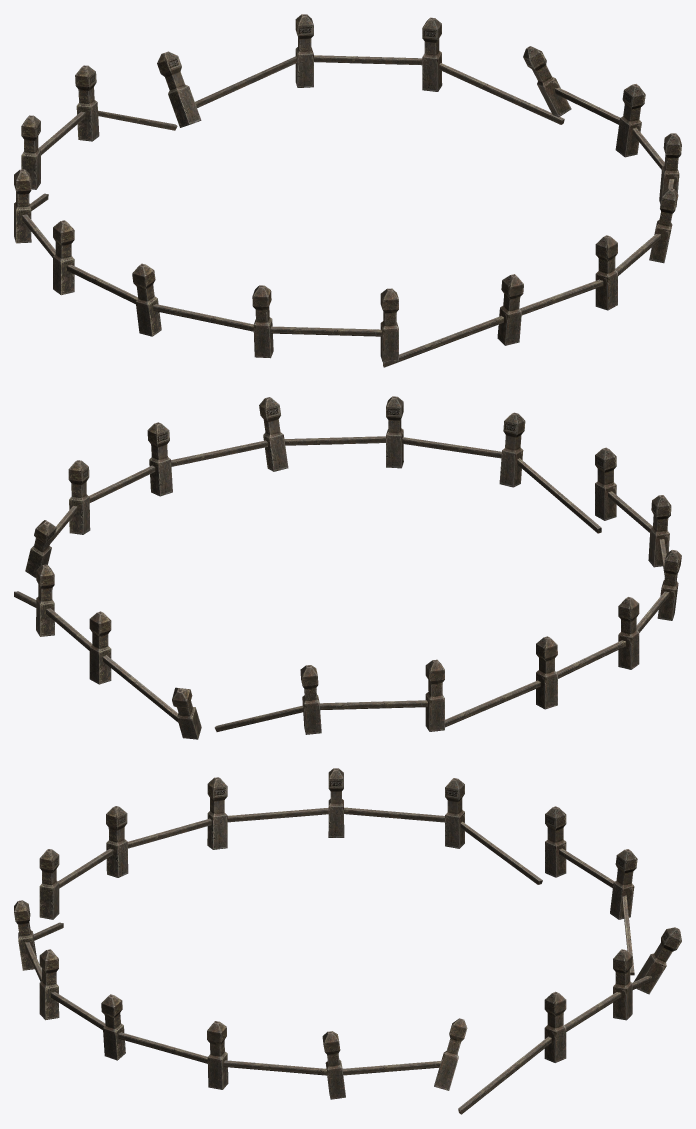
File: miniboss_13_1.fbx
The picture shows the model from 3 angles, top to bottom: view 1: azimuth 30°, elevation 25°; view 2: azimuth 150°, elevation 25°; view 3: azimuth 270°, elevation 25°; orthographic projection. The views are drawn at different scales.
Visible parts, largest first — view 1: miniboss_04; view 2: miniboss_04; view 3: miniboss_04.
Boxes of the visible parts, bbox=[...] form: miniboss_04: bbox=[14, 14, 681, 367]; miniboss_04: bbox=[14, 396, 681, 739]; miniboss_04: bbox=[14, 768, 681, 1114].
Size of the model in its own units: 60.88 by 9.47 by 63.79.
